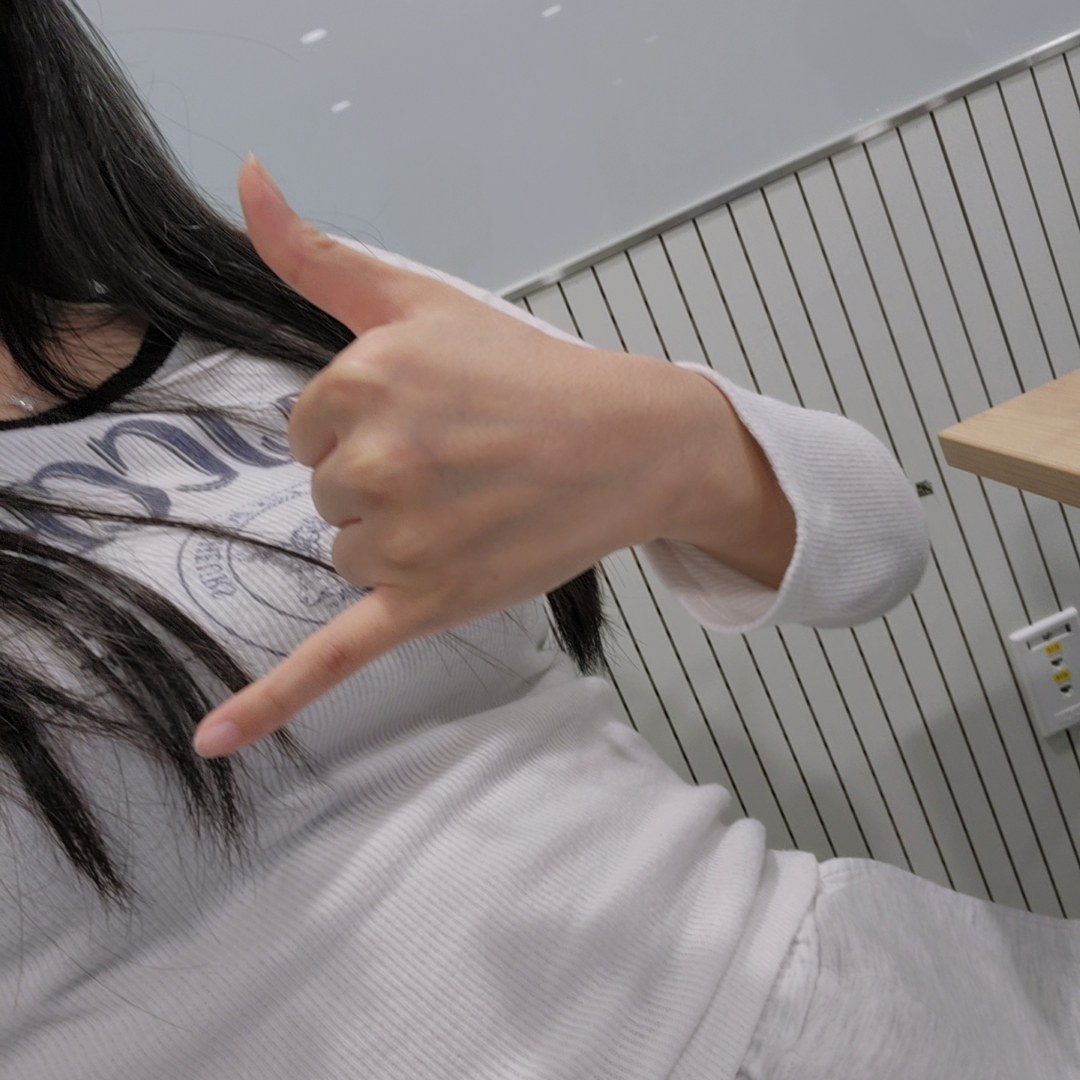call: (189, 150, 616, 764)
